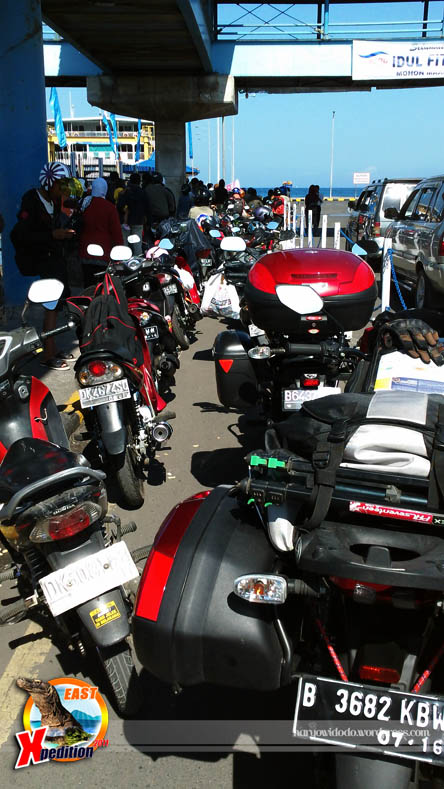plate: (297, 675, 443, 761), (44, 542, 130, 607), (82, 377, 132, 412)
